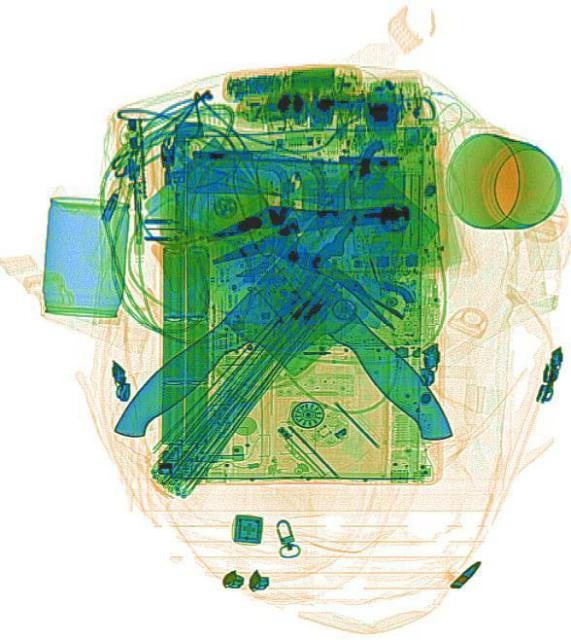Knife: (100, 148, 447, 504), (242, 207, 459, 456)
